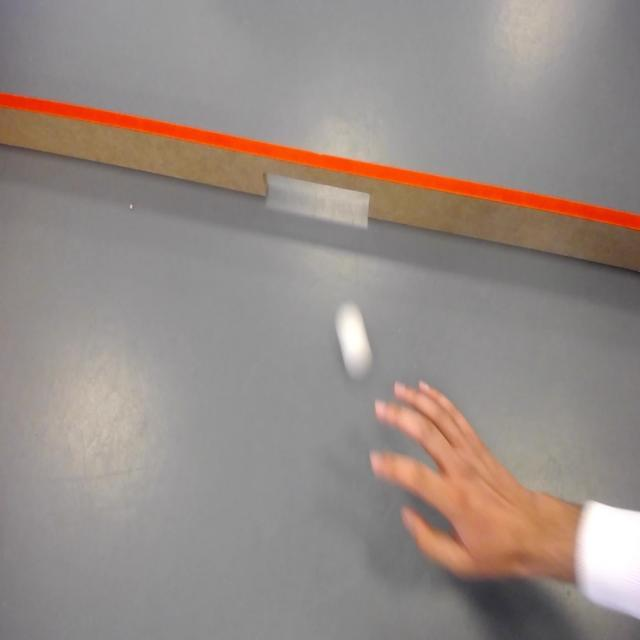white: (336, 304, 374, 376)
